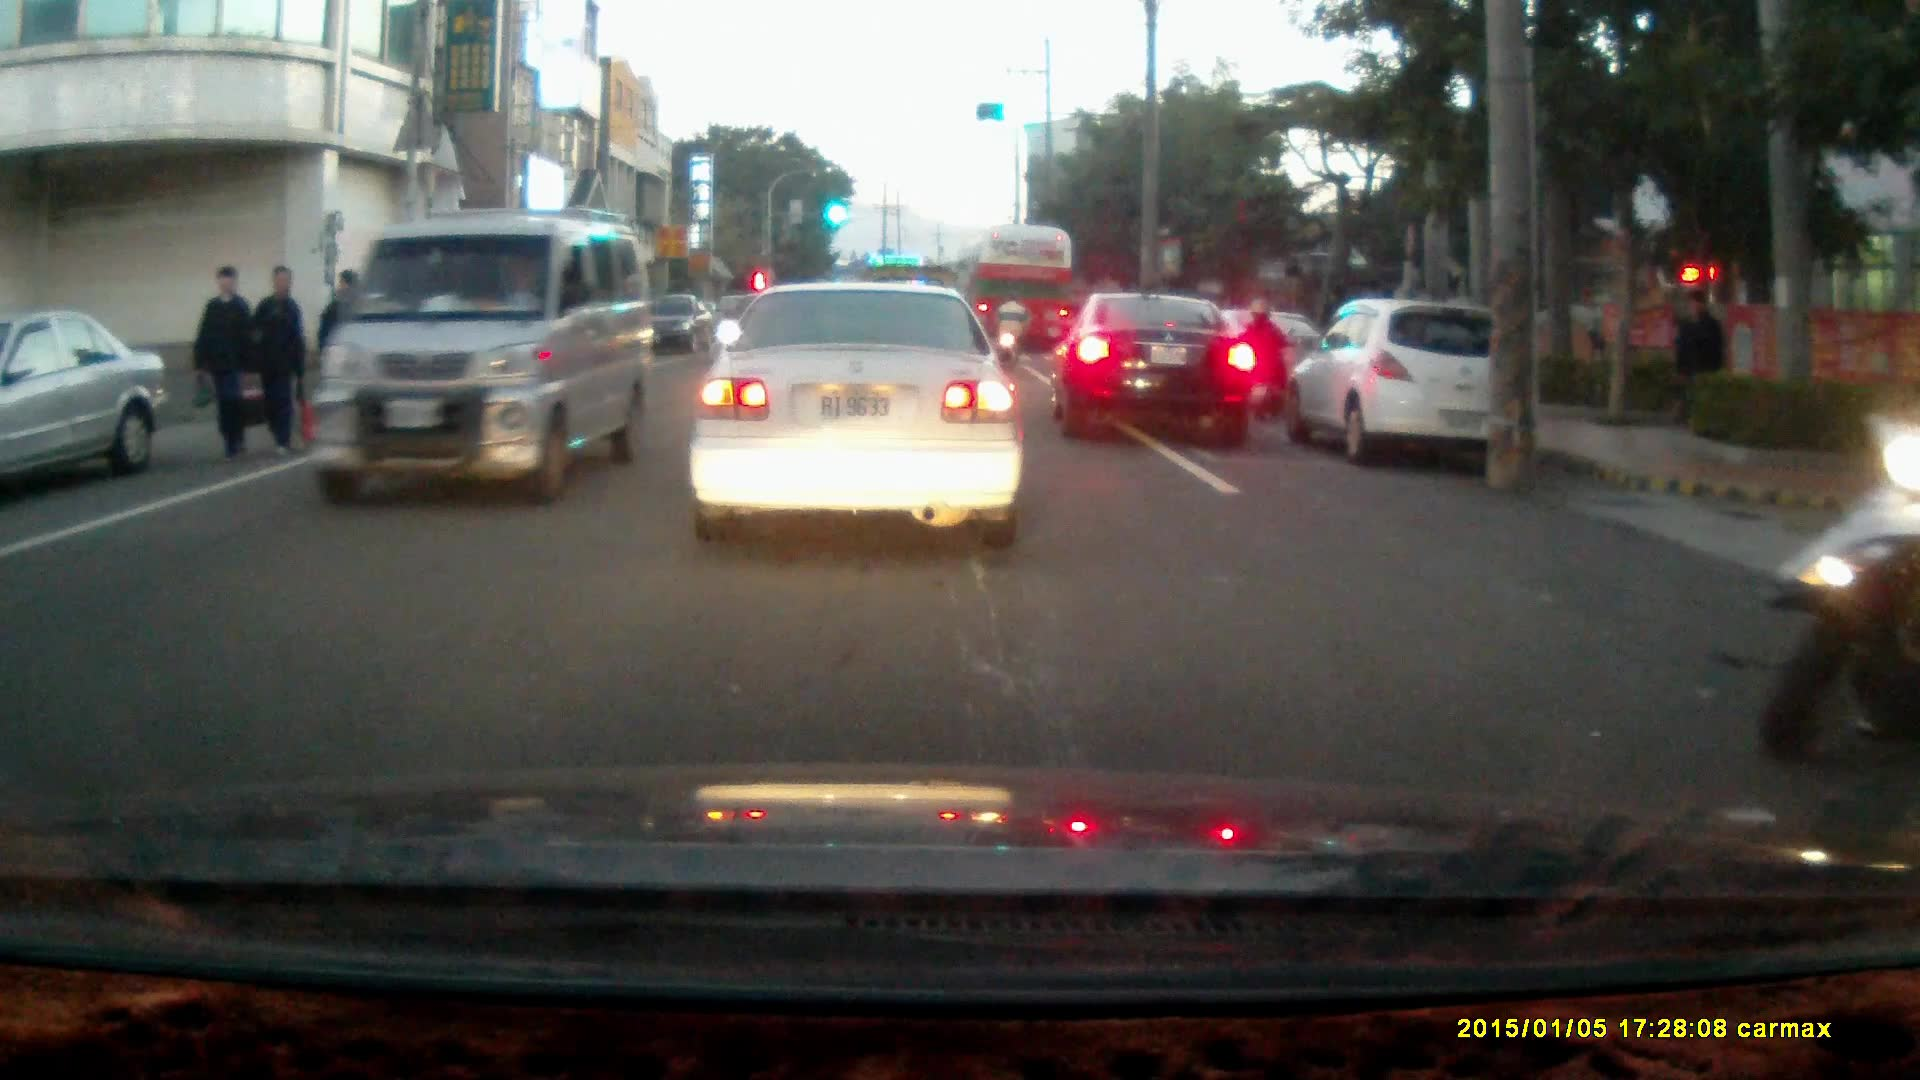pedestrian: (187, 266, 255, 466), (240, 261, 305, 454), (313, 266, 370, 432), (1673, 286, 1729, 436)
rider: (1757, 399, 1920, 763), (1241, 298, 1295, 425), (994, 292, 1032, 371)
vehicle: (309, 206, 652, 509), (689, 282, 1029, 550), (1279, 296, 1538, 474), (1052, 294, 1264, 450), (1, 309, 165, 501), (969, 223, 1077, 362)
